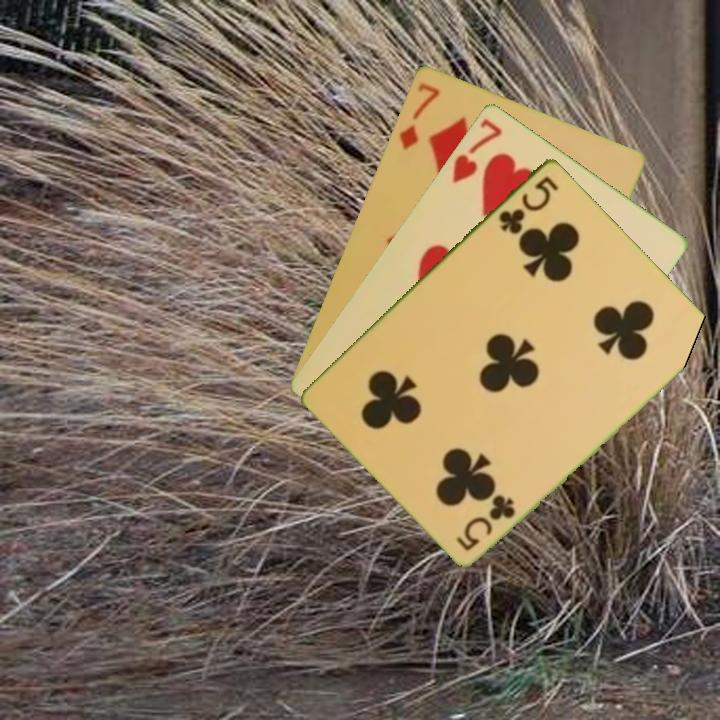5c: (495, 172, 562, 237), (452, 491, 519, 554)
7d: (395, 79, 443, 152)
7h: (448, 114, 506, 186)
